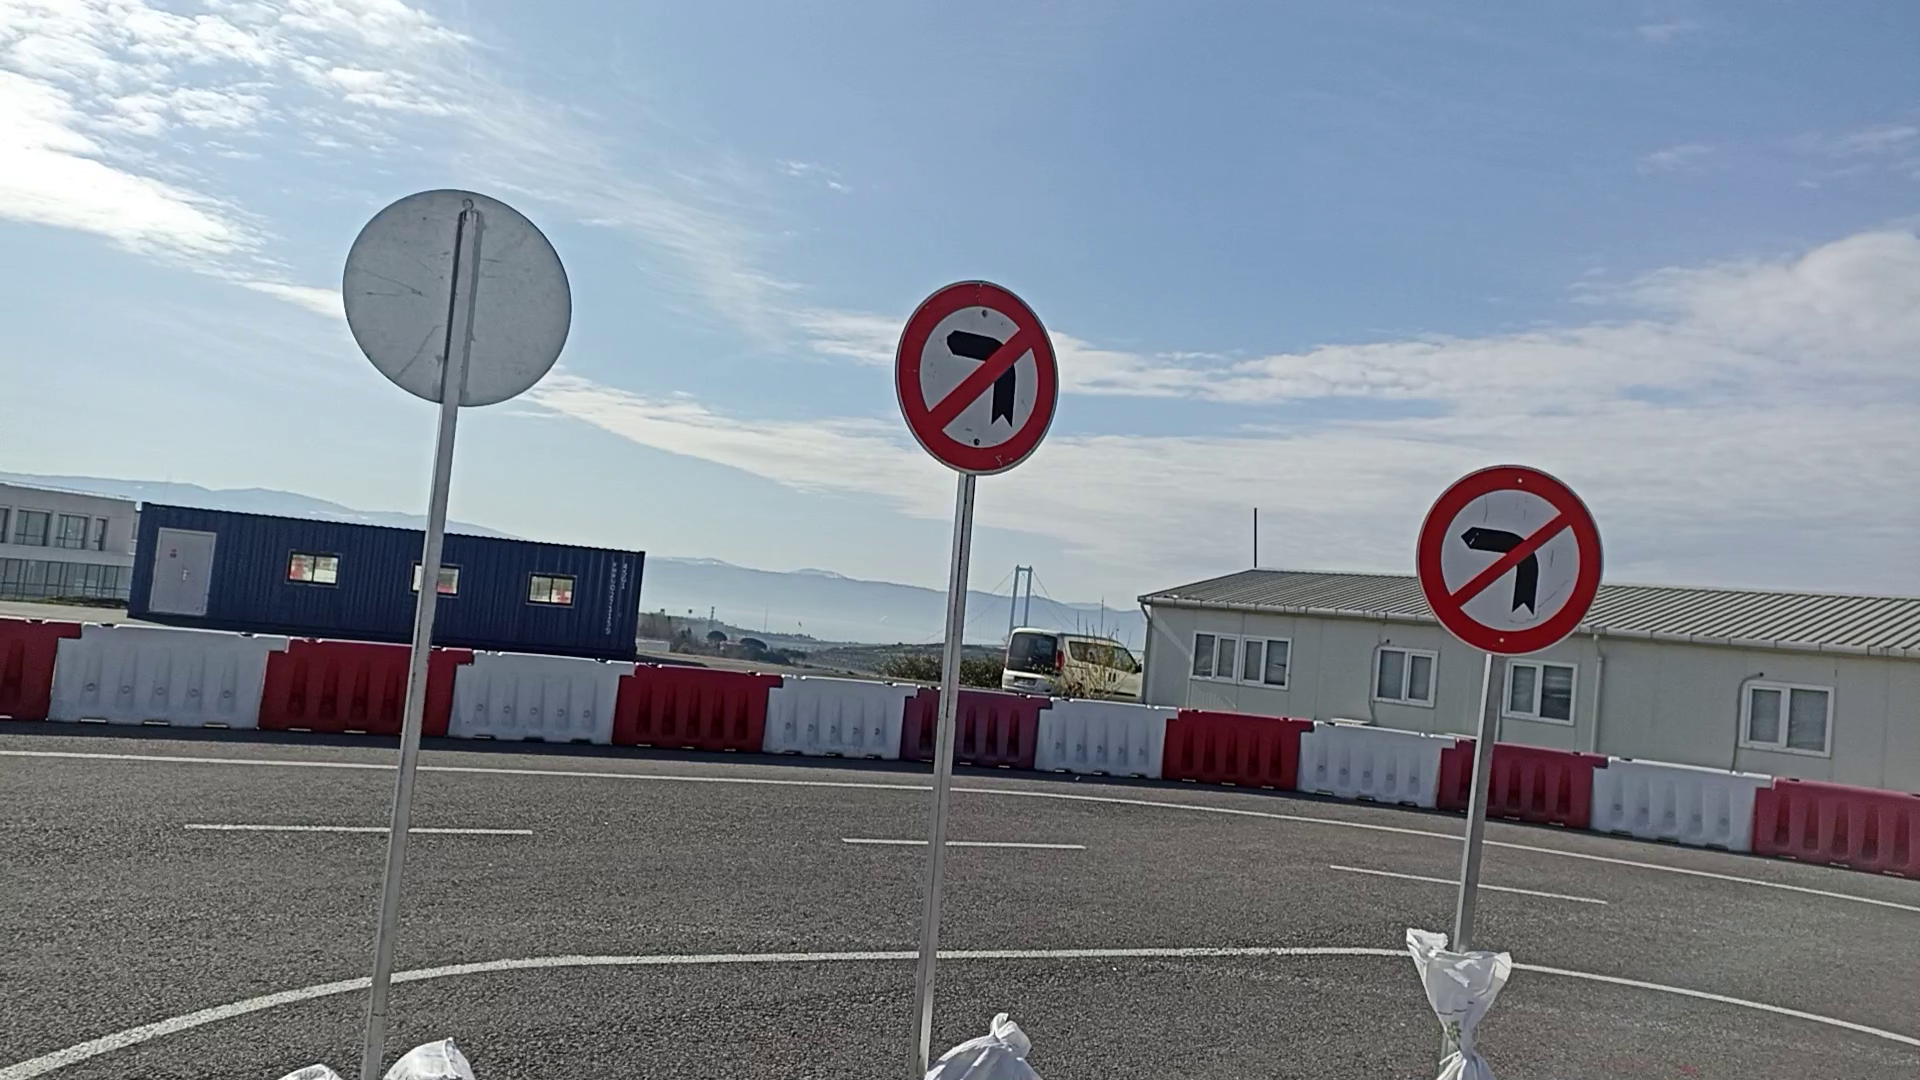noleft: (1414, 463, 1607, 659), (894, 278, 1062, 477)
